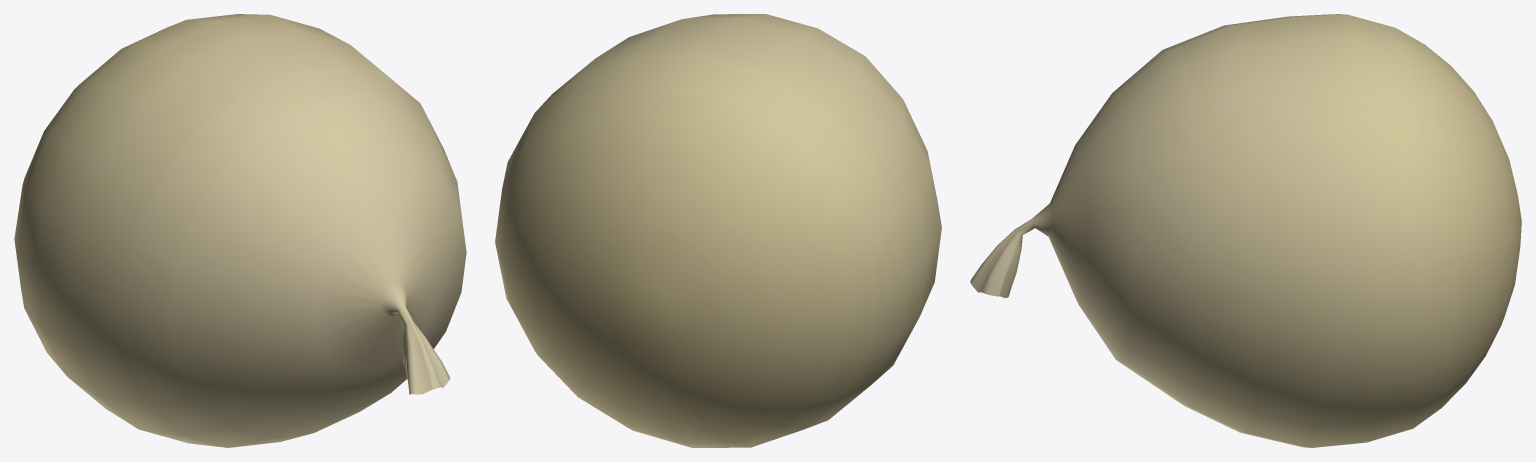
File: bag03.fbx
The picture shows the model from 3 angles, left to right: view 1: azimuth 30°, elevation 25°; view 2: azimuth 150°, elevation 25°; view 3: azimuth 270°, elevation 25°; orthographic projection. The views are drawn at different scales.
Visible parts, largest first — view 1: bag3; view 2: bag3; view 3: bag3.
Boxes of the visible parts, left/top/right/bottom form: bag3: left=14, top=14, right=466, bottom=447; bag3: left=495, top=14, right=941, bottom=447; bag3: left=970, top=14, right=1521, bottom=447.
Bounding box in the file's own units: 428 × 409 × 522.
